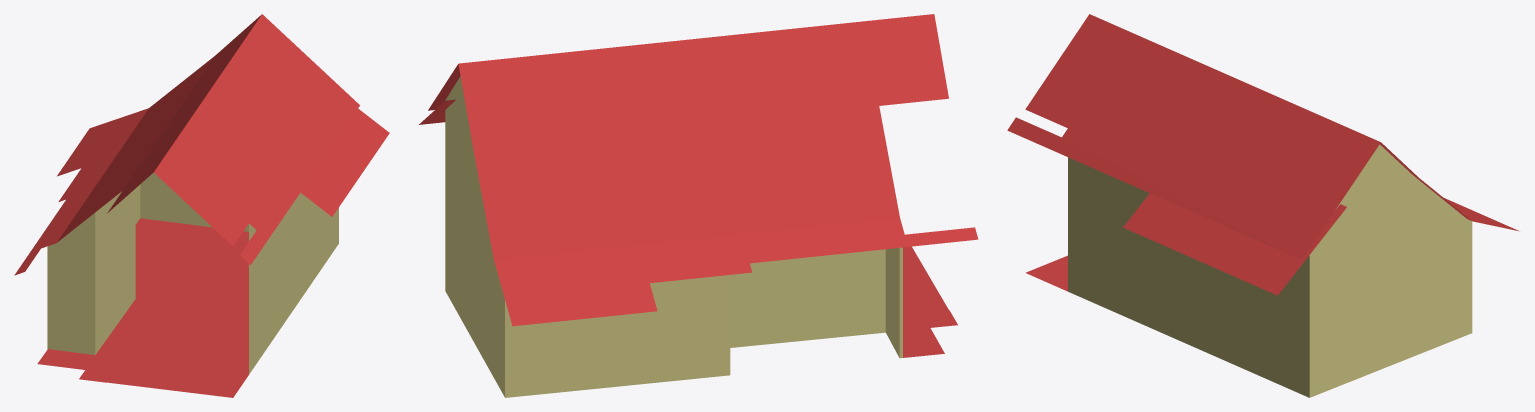
The picture shows the model from 3 angles, left to right: view 1: azimuth 30°, elevation 25°; view 2: azimuth 150°, elevation 25°; view 3: azimuth 270°, elevation 25°; orthographic projection. The views are drawn at different scales.
Bounding box in the file's own units: 31.12 × 31.25 × 15.62.
